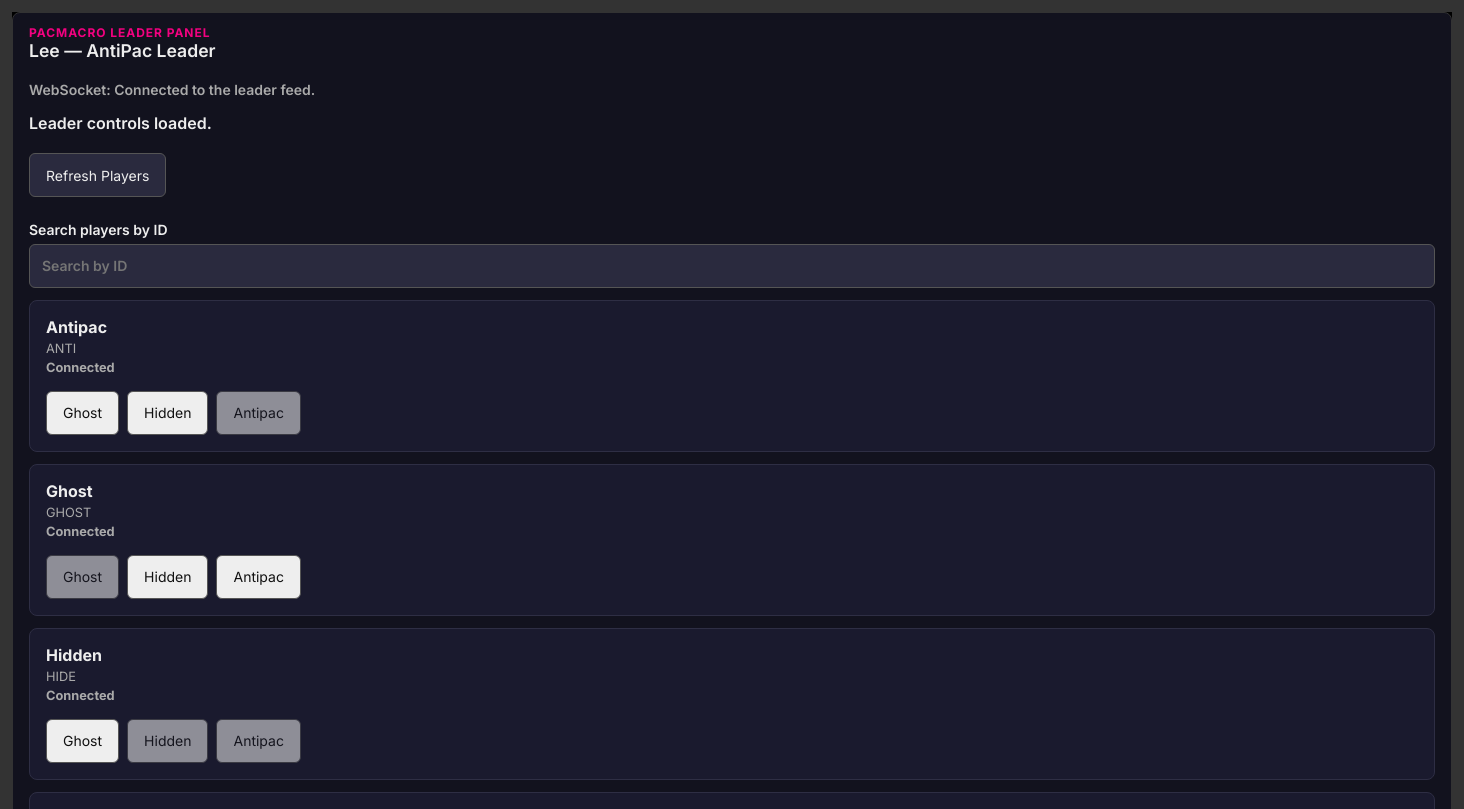
Test: LeaderOverlayComponent › fully rolls back an ineligible update failure with actionable status
Click the button with id "overlay-type-GHOST-2" at (259, 577), box [216,555,301,599]
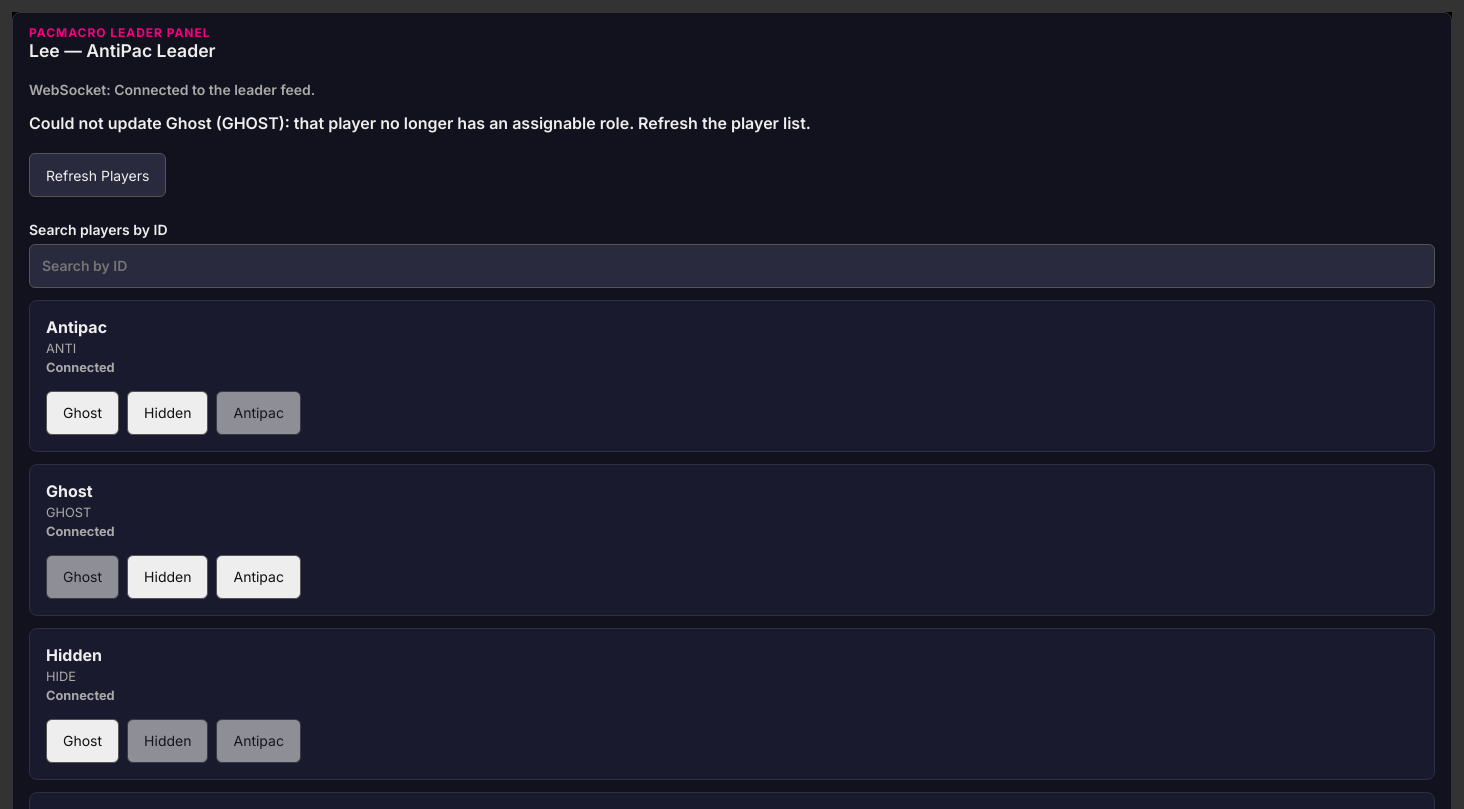
Expected: the message with class "action-status" shows "no longer has an assignable role", [29,113,811,133]
